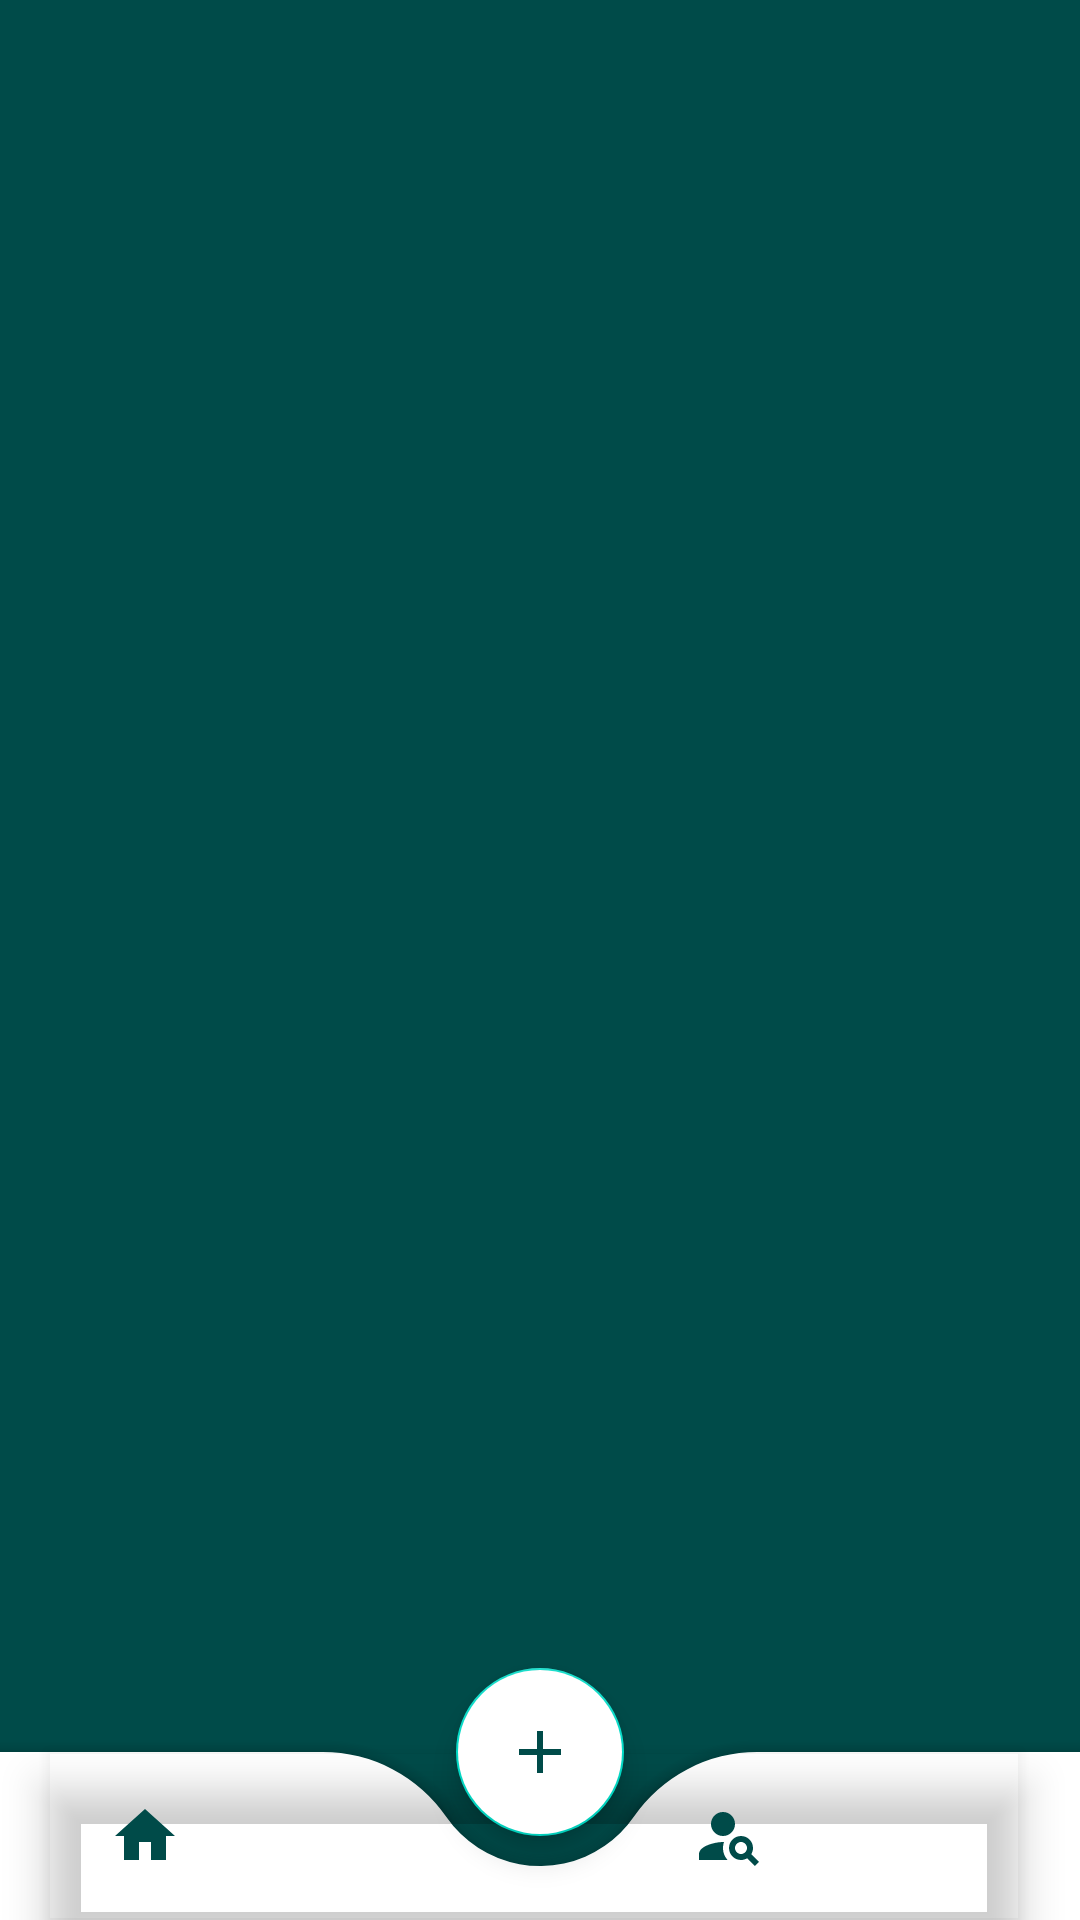

Icons on this 1080px x 1920px Android screen, each with the point to tap as (x,y):
add: (540,1752)
